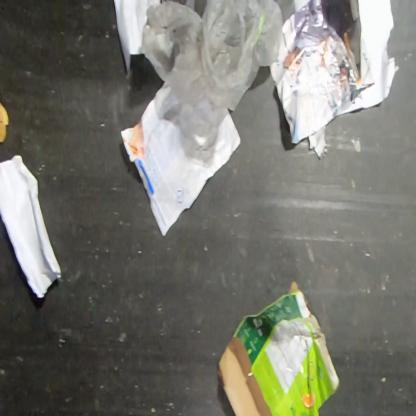cardboard: (217, 279, 341, 415)
soft_plastic: (138, 0, 286, 114)
